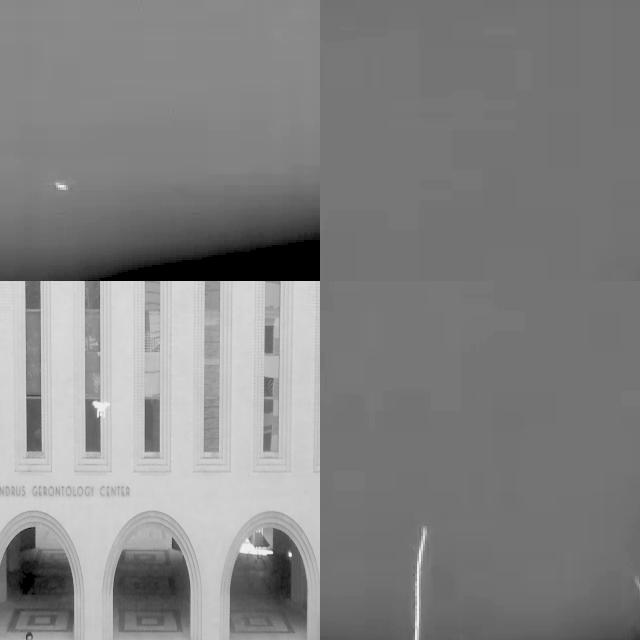1: (45, 174, 79, 206)
drone: (92, 398, 110, 422)
